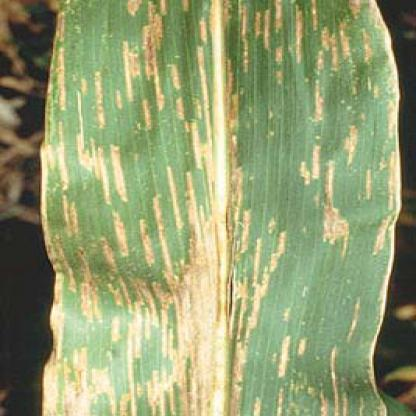corn gray leaf spot: (31, 1, 405, 415)
